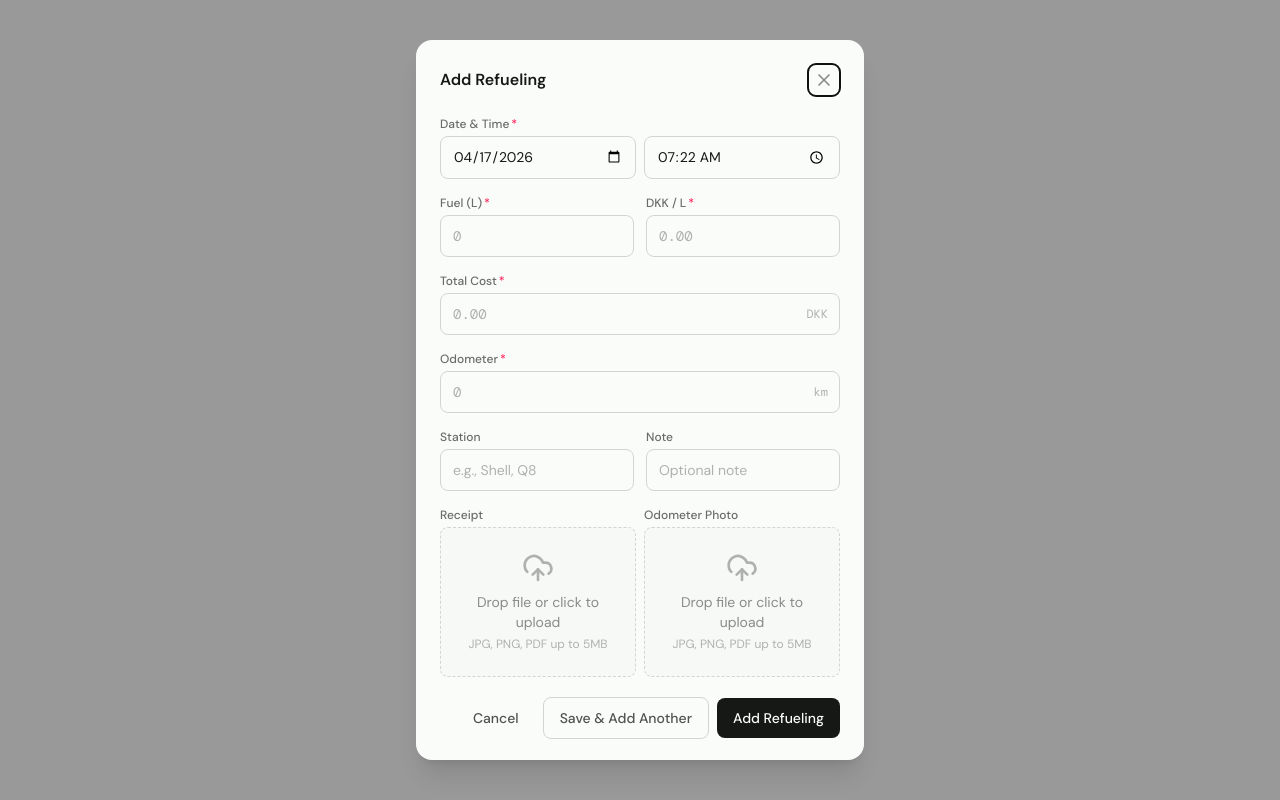
RefuelingDialog › auto-computes total cost from fuel × cost/unit
The image size is (1280, 800).
Type "40" into the number field with id "refueling-fuelAmount" at (537, 236), box [440,215,634,257]
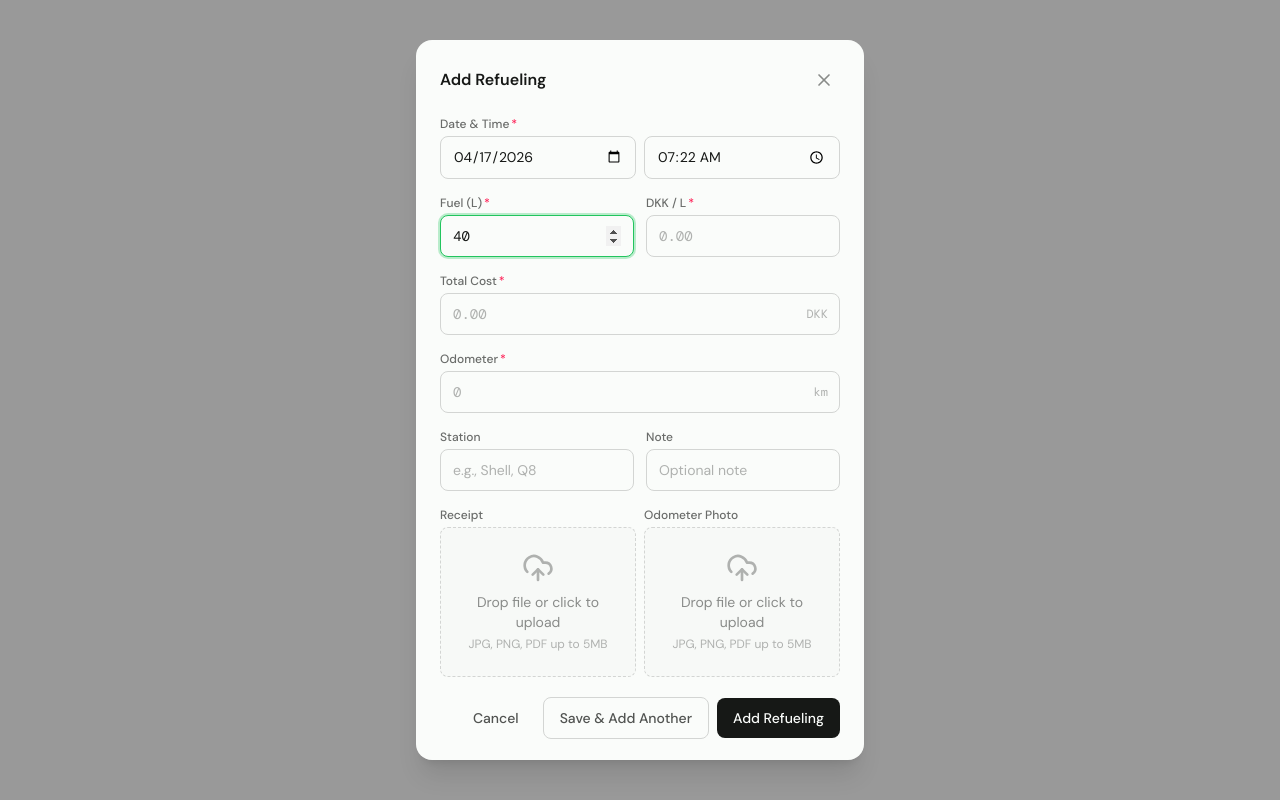
Type "12.50" into the number field with id "refueling-costPerUnit" at (743, 236), box [646,215,840,257]
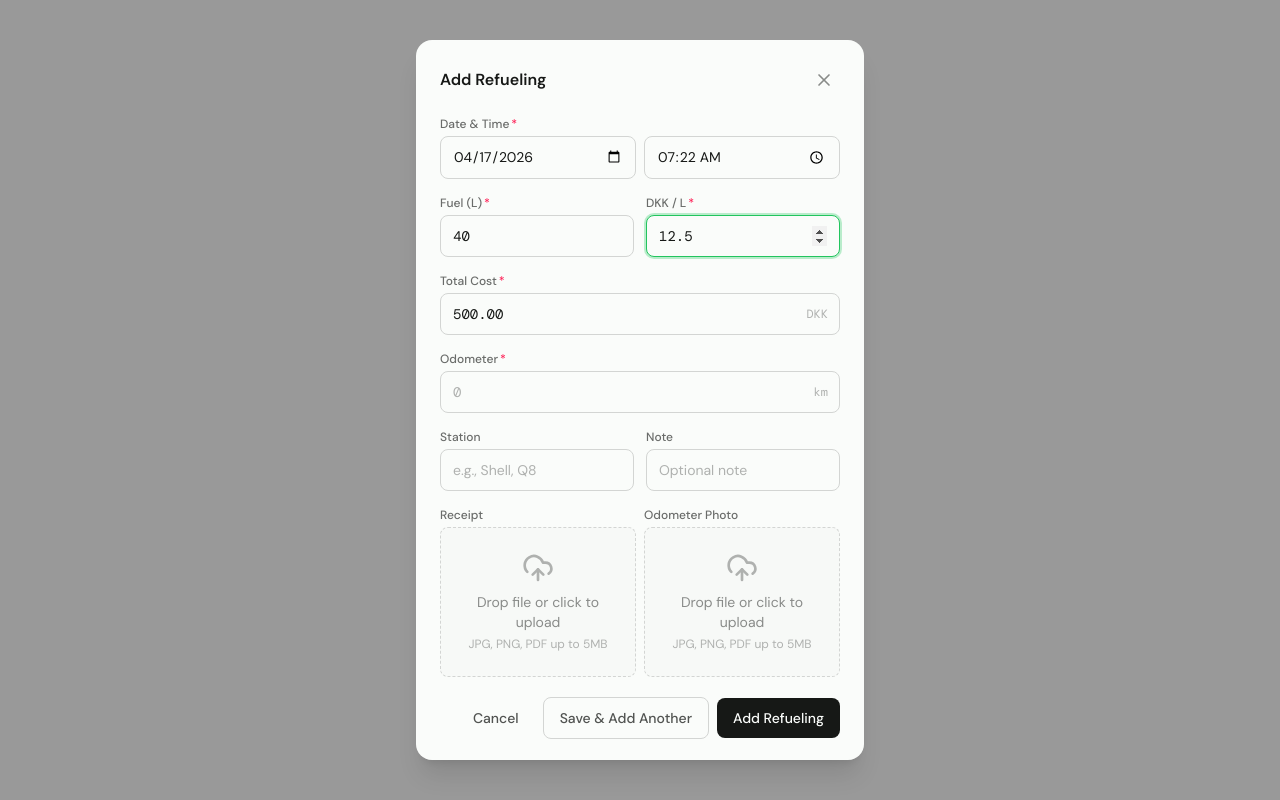
Expected: the number field with id "refueling-totalCost" holds "500.00", [440,293,840,335]
